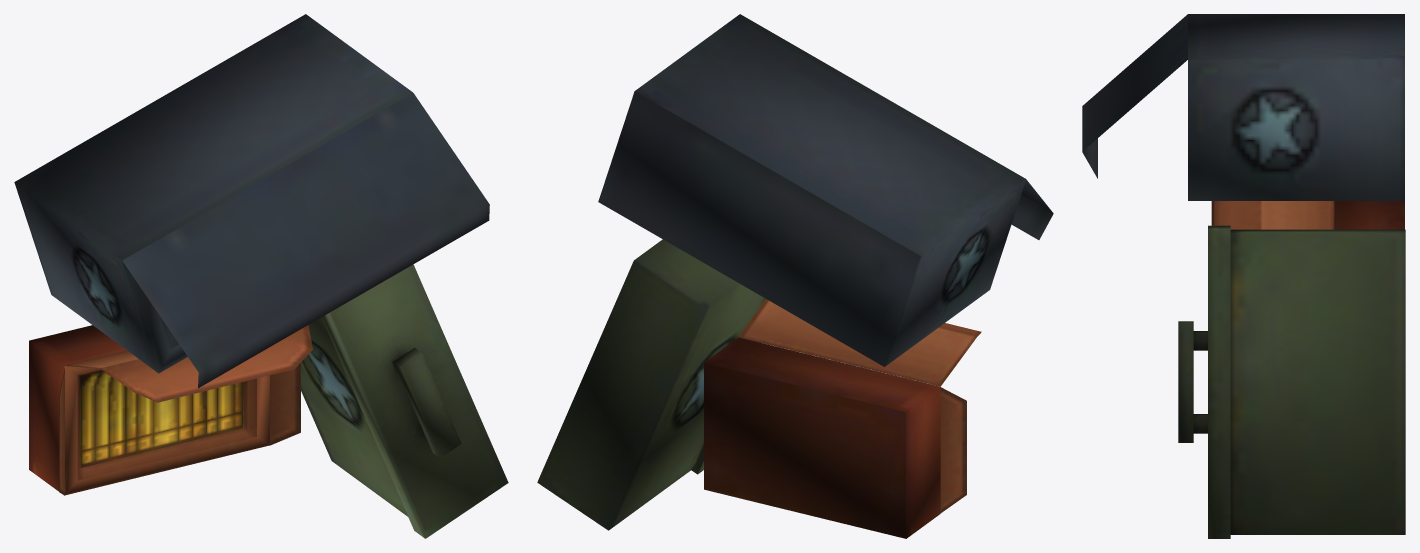
The model's file is Ammo_Large_89db74ca__Large_money_19410235_c1f257.obj.
3 renders of one model, left to right at view 1: azimuth 30°, elevation 25°; view 2: azimuth 150°, elevation 25°; view 3: azimuth 270°, elevation 25°, orthographic. The views are drawn at different scales.
Size of the model in its own units: 1.22 by 1.34 by 0.8495.
1 material, 1 textured.
